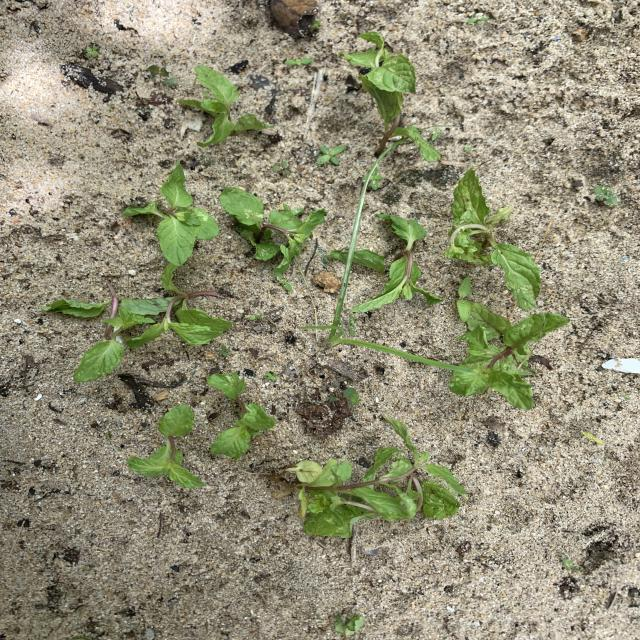crop: (41, 261, 229, 381), (293, 417, 466, 537), (447, 169, 539, 310), (341, 33, 439, 161), (449, 303, 567, 407), (124, 162, 217, 267), (221, 187, 324, 275), (353, 214, 439, 308), (178, 66, 269, 143), (129, 405, 203, 487), (208, 372, 274, 458)
weed: (301, 161, 470, 374), (334, 615, 363, 639), (457, 277, 471, 320), (149, 66, 177, 86), (318, 145, 344, 163), (594, 186, 618, 204), (340, 388, 359, 407), (367, 171, 382, 190), (562, 558, 583, 571), (276, 273, 291, 290), (272, 161, 290, 175), (582, 432, 603, 443), (467, 15, 487, 24), (428, 127, 441, 139), (286, 58, 311, 64), (85, 47, 99, 56), (219, 345, 229, 355), (266, 372, 275, 380), (249, 315, 259, 319)
